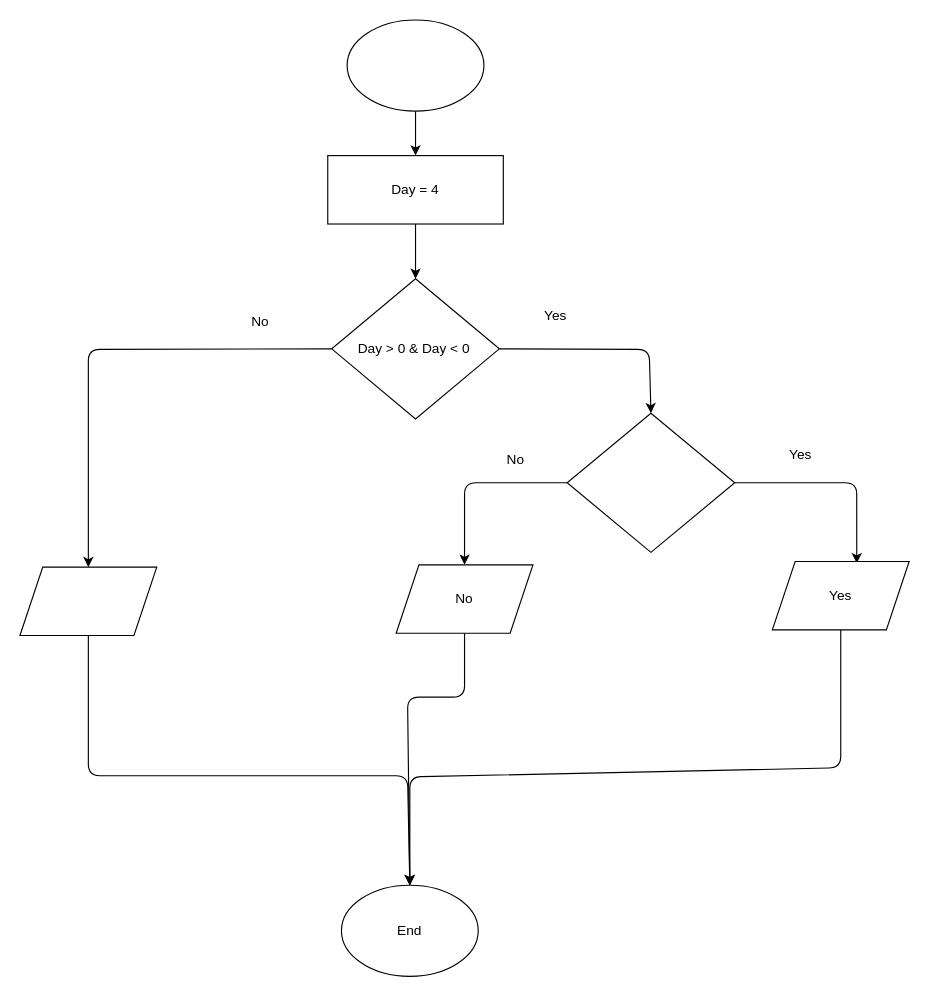
The diagram is 929 pixels wide and 996 high, and some of its shapes have lost their labels. The shapes that lost their labels are listed below. From the top down, each one's centre as x and y in pixels, then its label:
At point (415, 65): "Start".
At point (650, 482): "Day == 6 | Day == 7".
At point (88, 601): "does not exist".
